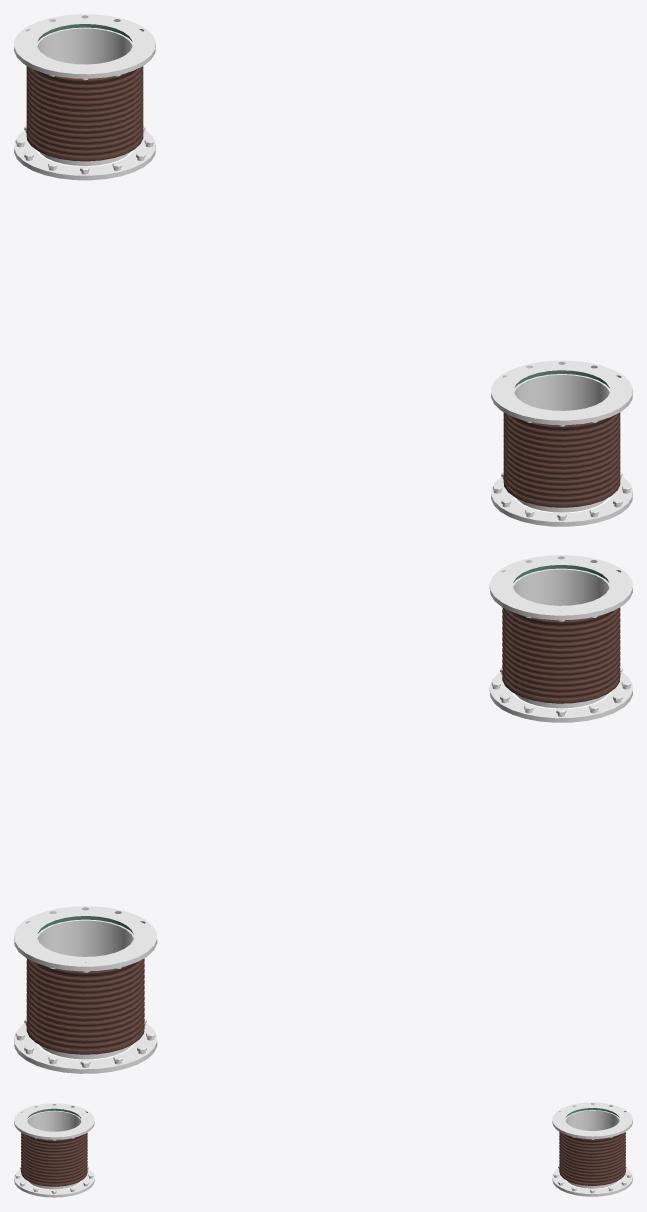
Rendered from 10_煙囪避震軟管（法蘭螺絲）.glb.
The picture shows the model from 3 angles, top to bottom: view 1: azimuth 30°, elevation 25°; view 2: azimuth 150°, elevation 25°; view 3: azimuth 270°, elevation 25°; orthographic projection. The views are drawn at different scales.
Visible parts, largest first — view 1: 發電機 發電機 [1288682].001, 發電機 發電機 [1288682].002; view 2: 發電機 發電機 [1288682].002, 發電機 發電機 [1288682].001; view 3: 發電機 發電機 [1288682].002, 發電機 發電機 [1288682].001.
Boxes of the visible parts, x1,y1,x2,y2 form: 發電機 發電機 [1288682].001: (14, 14, 155, 180); 發電機 發電機 [1288682].002: (491, 360, 632, 526); 發電機 發電機 [1288682].002: (489, 555, 632, 722); 發電機 發電機 [1288682].001: (14, 906, 157, 1073); 發電機 發電機 [1288682].002: (14, 1103, 94, 1197); 發電機 發電機 [1288682].001: (552, 1102, 632, 1196).
Bounding box in the file's own units: 0.4912 × 0.395 × 3.68.
